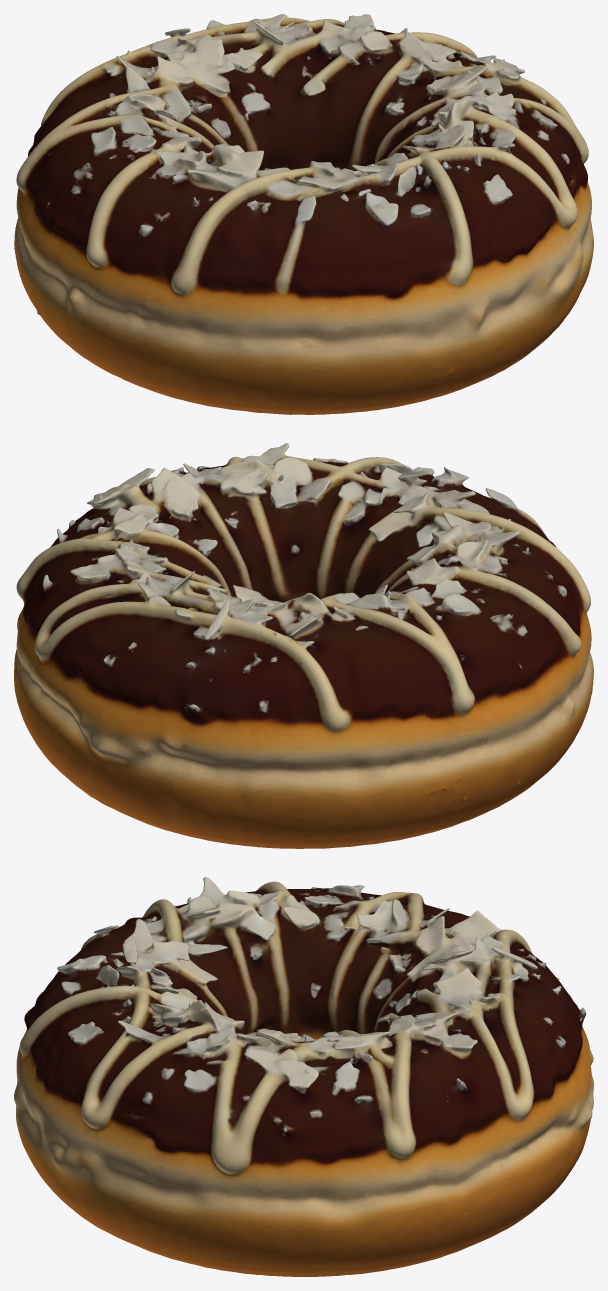
Rendered from chocolate donuts with decorations.gltf.
3 views of the same model, one above another, from view 1: azimuth 30°, elevation 25°; view 2: azimuth 150°, elevation 25°; view 3: azimuth 270°, elevation 25° (orthographic).
Parts seen in each view (by area): view 1: chocolate donuts with decorations; view 2: chocolate donuts with decorations; view 3: chocolate donuts with decorations.
Part boxes in pixels (<box>): chocolate donuts with decorations: <box>14,14,593,414</box>; chocolate donuts with decorations: <box>14,443,593,848</box>; chocolate donuts with decorations: <box>14,877,593,1276</box>.
Size of the model in its own units: 0.9999 by 0.4607 by 0.9999.
Materials: 1 (1 with a texture image).
